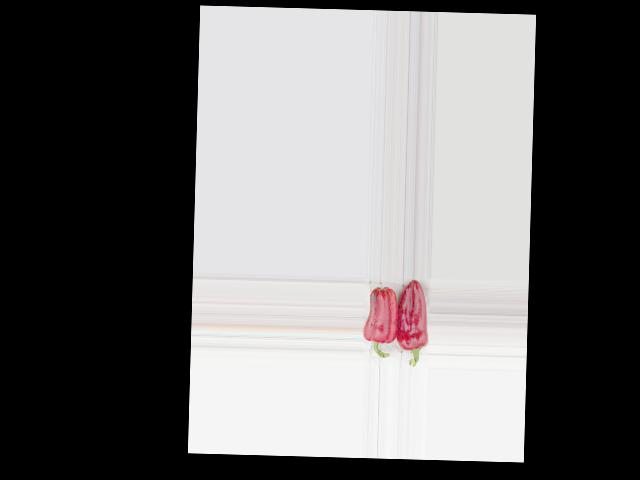bell_pepper: (395, 279, 429, 369)
